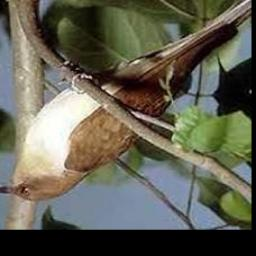Cuckoo: (0, 0, 252, 201)
